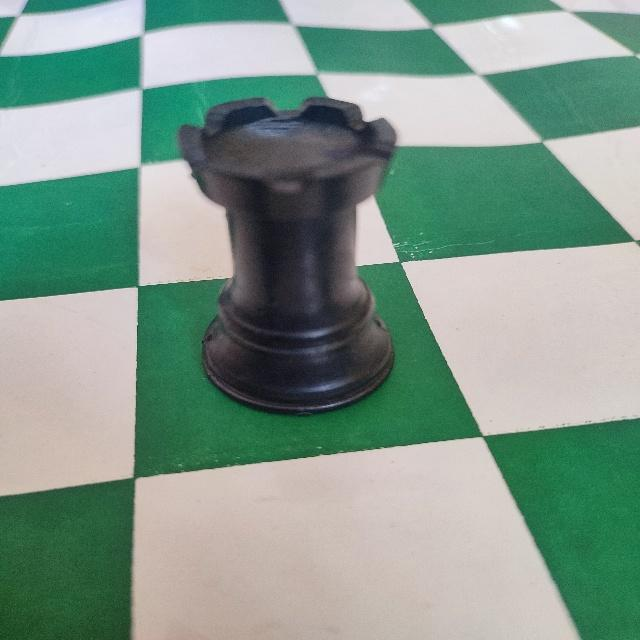Rook: (174, 93, 400, 418)
